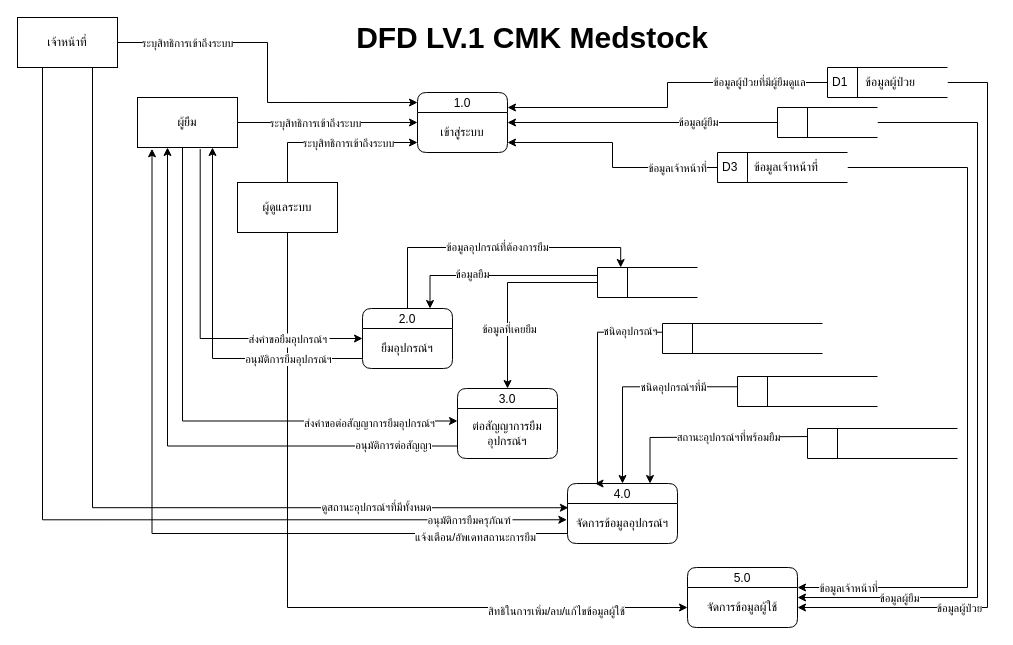
Some shapes in this 1013 by 645 pixel diagram are drawn without their labels. The centre of each missing label's shape, as x and y in pixels:
"D2 ข้อมูลผู้ยืม" belongs at (x=827, y=122).
"D4 ข้อมูลใบยืม" belongs at (x=647, y=282).
"D5 ข้อมูลอุปกรณ์การแพทย์" belongs at (x=742, y=338).
"D6 ข้อมูลชนิดอุปกรณ์ฯ" belongs at (x=807, y=391).
"D7 ข้อมูลสถานะอุปกรณ์ฯ" belongs at (x=882, y=443).
